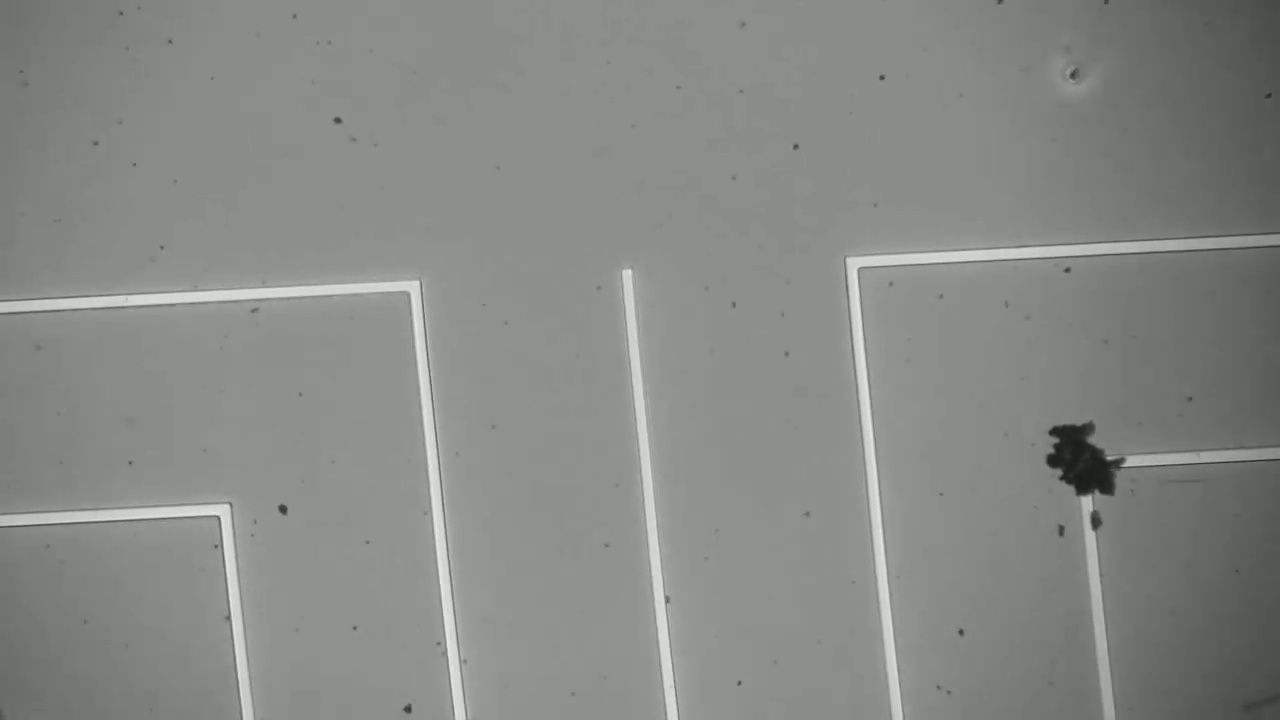stains_enbedded: (1028, 414, 1140, 519)
